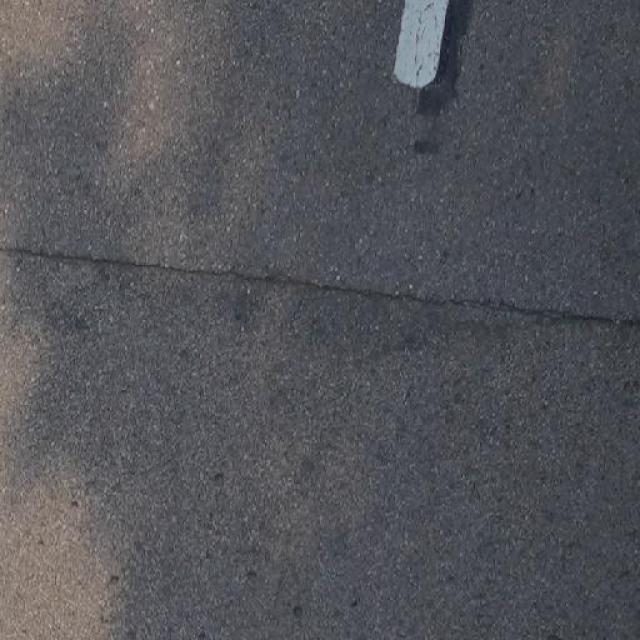Retak-Melintang: (0, 243, 640, 332)
